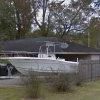Boat: (1, 43, 82, 80)
